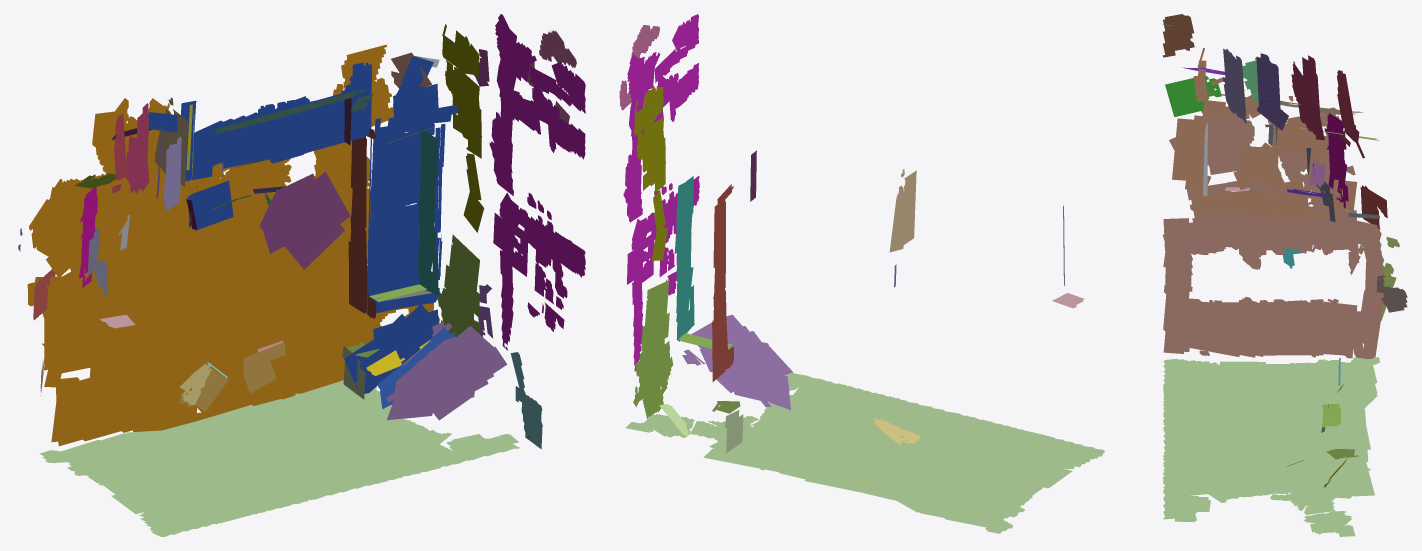
File: bc2fce1d81_simple.glb
3 renders of one model, left to right at view 1: azimuth 30°, elevation 25°; view 2: azimuth 150°, elevation 25°; view 3: azimuth 270°, elevation 25°, orthographic. The views are drawn at different scales.
Size of the model in its own units: 5.26 by 4.2 by 2.51.
